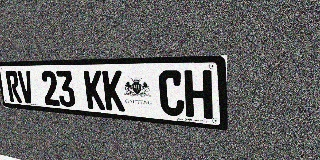2: (41, 71, 60, 106)
3: (56, 71, 76, 107)
C: (158, 70, 185, 117)
H: (184, 70, 213, 119)
K: (102, 71, 125, 112), (83, 71, 105, 110)
R: (5, 71, 22, 103)
V: (17, 71, 35, 104)
